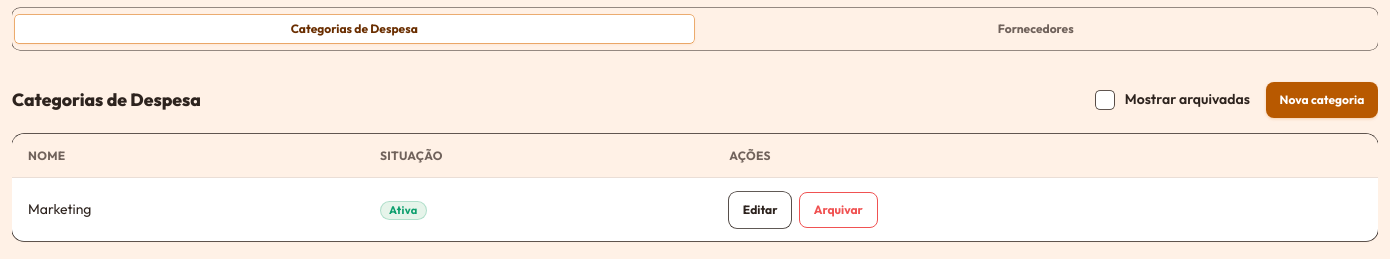
Test: PlanoContasTab (adaptador em memória) › mostra as categorias arquivadas quando o filtro é ativado, com indicação visual
Check: the text "Marketing" is shown, box [12,178,364,241]
Check: the text "Antiga" is not shown
Click the checkbox labelled "Mostrar arquivadas": (1173, 100) [1096,90,1250,110]
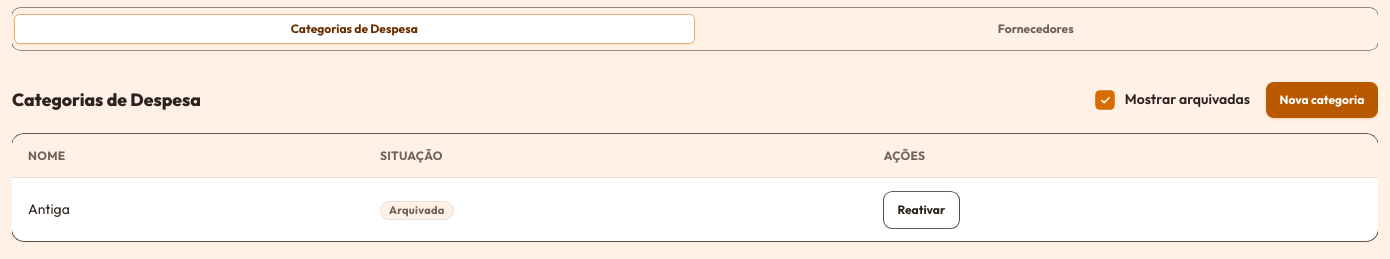
Check: the text "Antiga" is shown, box [12,178,364,241]
Check: the text "Marketing" is gone
Check: the text "Arquivada" is shown, box [389,205,445,216]
